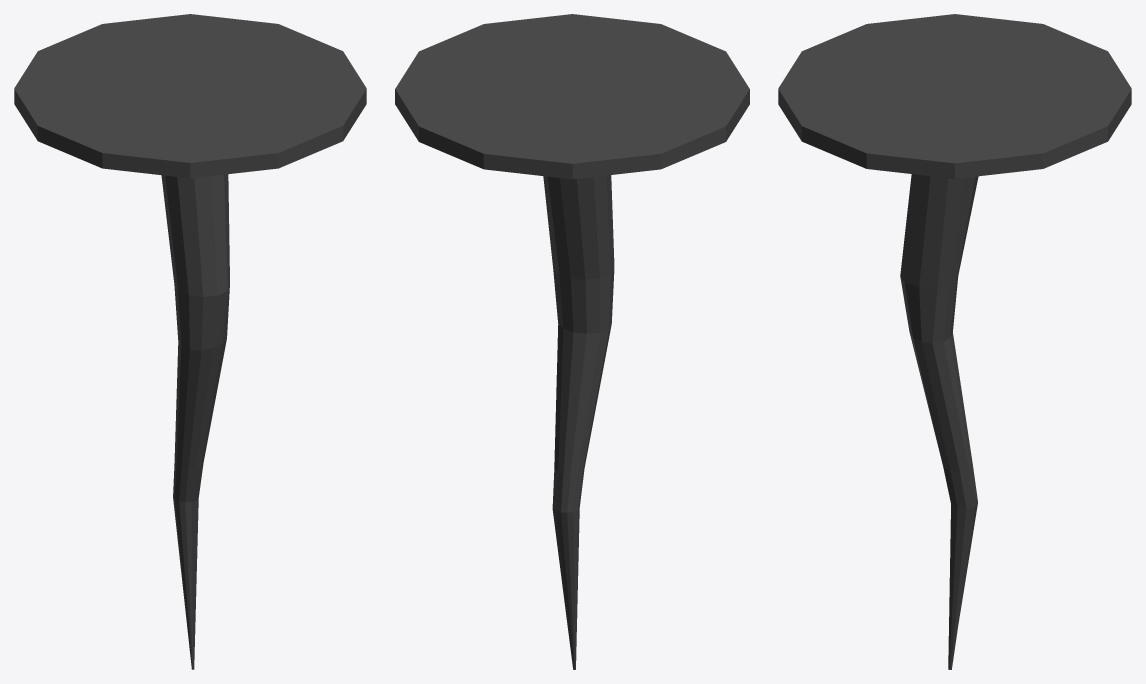
The model's file is nail.glb.
3 renders of one model, left to right at view 1: azimuth 30°, elevation 25°; view 2: azimuth 150°, elevation 25°; view 3: azimuth 270°, elevation 25°, orthographic.
Parts seen in each view (by area): view 1: Cylinder; view 2: Cylinder; view 3: Cylinder.
Boxes of the visible parts, x1,y1,x2,y2 form: Cylinder: [14, 14, 366, 669]; Cylinder: [395, 14, 749, 669]; Cylinder: [778, 14, 1131, 669].
Bounding box in the file's own units: 0.1193 × 0.2161 × 0.1193.
1 material, 1 textured.
